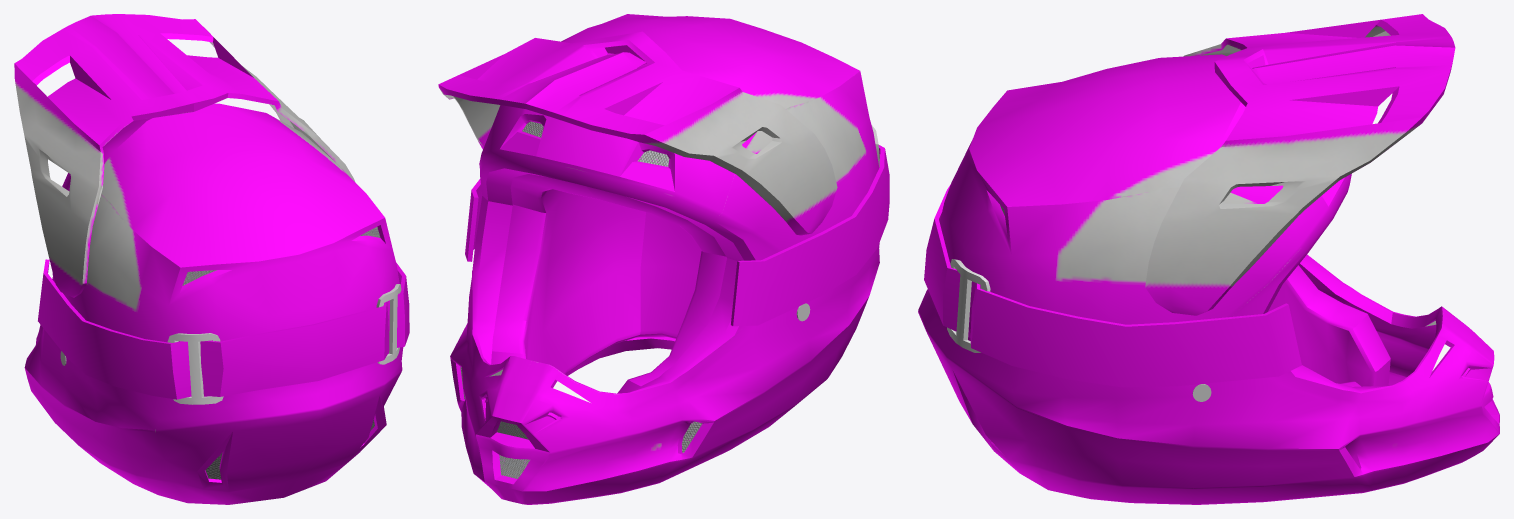
The model's file is rider_helmet.glb.
3 views of the same model, side by side, from view 1: azimuth 30°, elevation 25°; view 2: azimuth 150°, elevation 25°; view 3: azimuth 270°, elevation 25° (orthographic). The views are drawn at different scales.
Visible parts, largest first — view 1: helmet; view 2: helmet; view 3: helmet.
Part boxes in pixels (<box>): helmet: <box>14,14,409,504</box>; helmet: <box>438,14,889,504</box>; helmet: <box>918,14,1499,504</box>.
Size of the model in its own units: 0.8805 by 0.98 by 1.27.
1 material, 1 textured.
